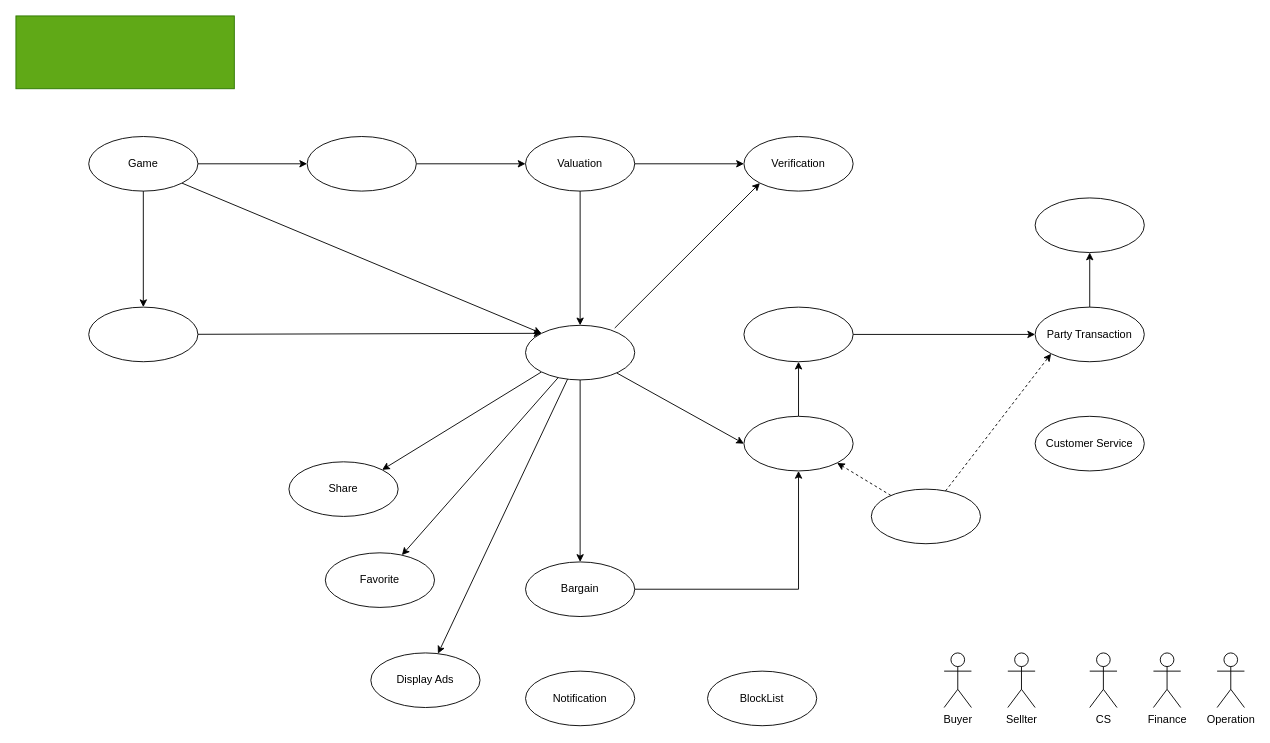
This 1270x743 diagram has some shape labels left out. The box of each missing label's shape, as (x1, y1, x2, y2) in pixels:
Game Assets: (306, 136, 416, 191)
Order: (743, 415, 853, 471)
Payment: (743, 306, 853, 362)
Player: (88, 306, 198, 362)
Product: (525, 324, 635, 380)
Protection: (870, 488, 981, 544)
Settlement: (1034, 197, 1144, 253)
Virtual Asset Trading Platform (Game): (15, 15, 234, 89)
